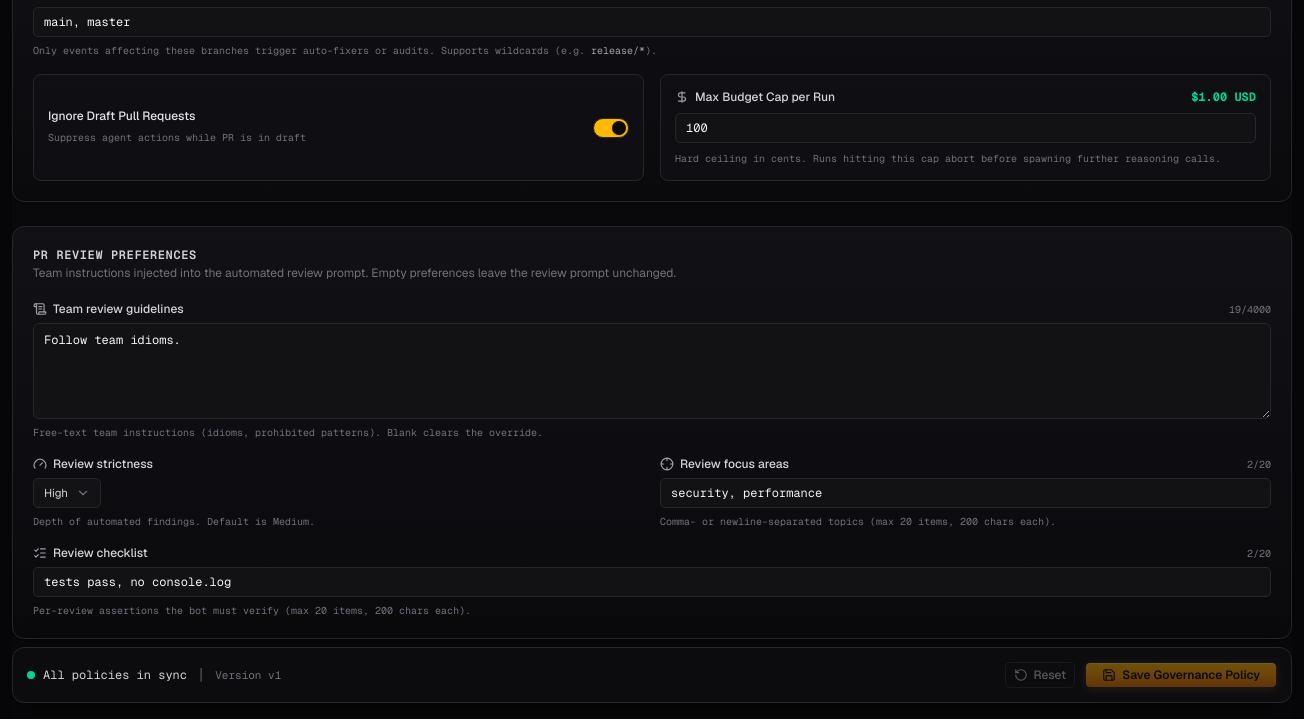
Test case: RepoSettingsCard (components/settings/RepoSettingsCard.tsx) › submits review prefs in the save payload
(page scrolled)
Replace the text in the text box labelled "Team review guidelines" with "  Ship small diffs.  " at {"x": 652, "y": 371}, box [33, 323, 1271, 419]
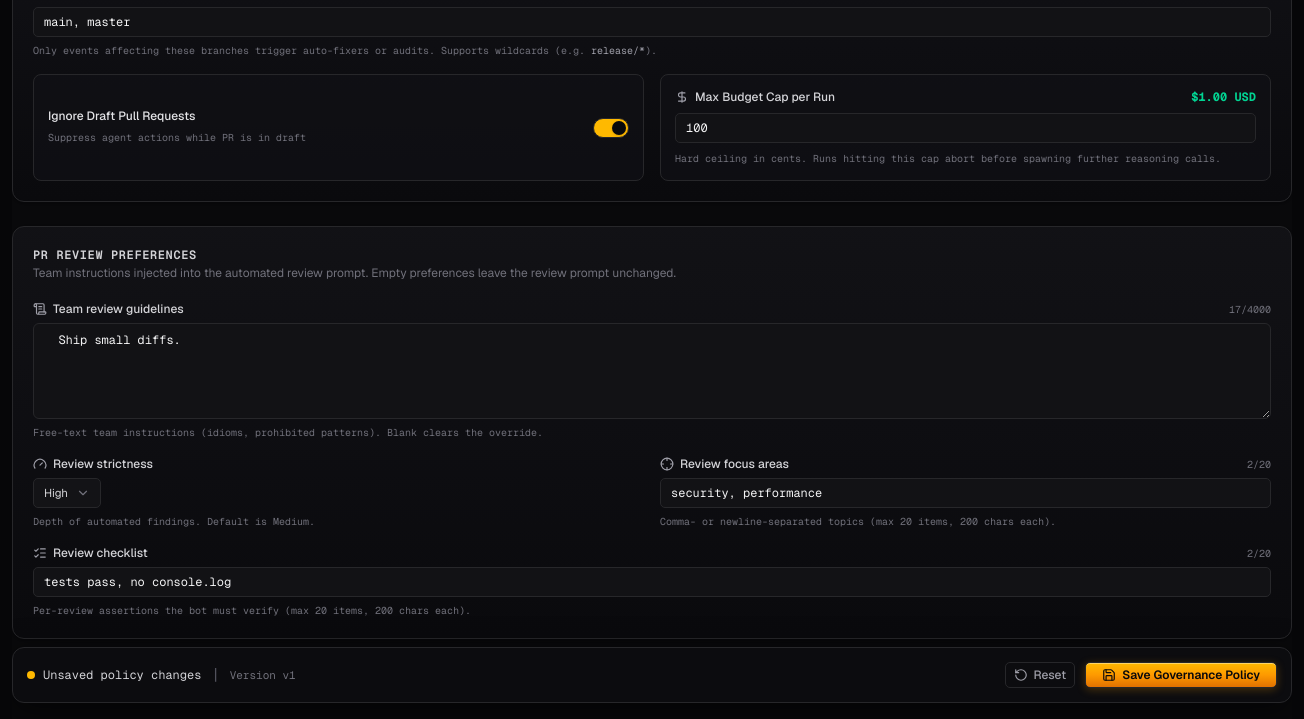
Replace the text in the field labelled "Review focus areas" with "security, reliability" at {"x": 966, "y": 493}, box [660, 478, 1271, 508]
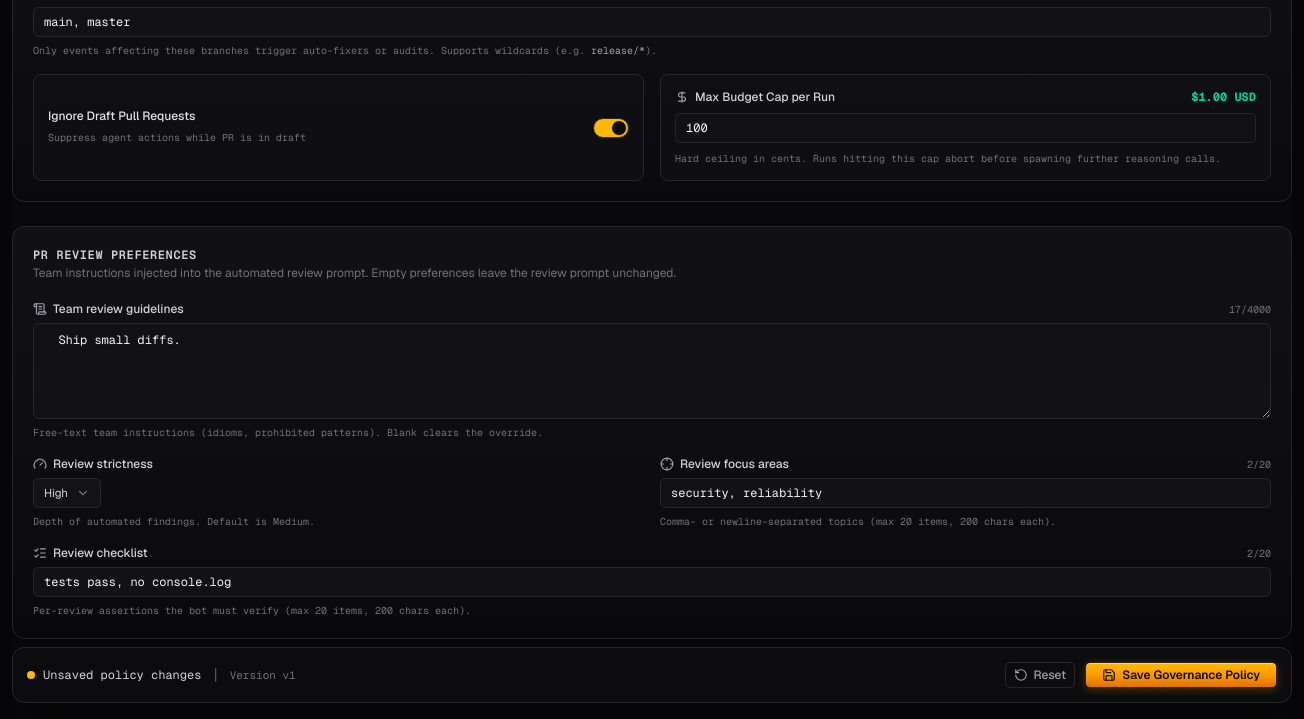
Replace the text in the field labelled "Review checklist" with "tests pass" at {"x": 652, "y": 582}, box [33, 567, 1271, 597]
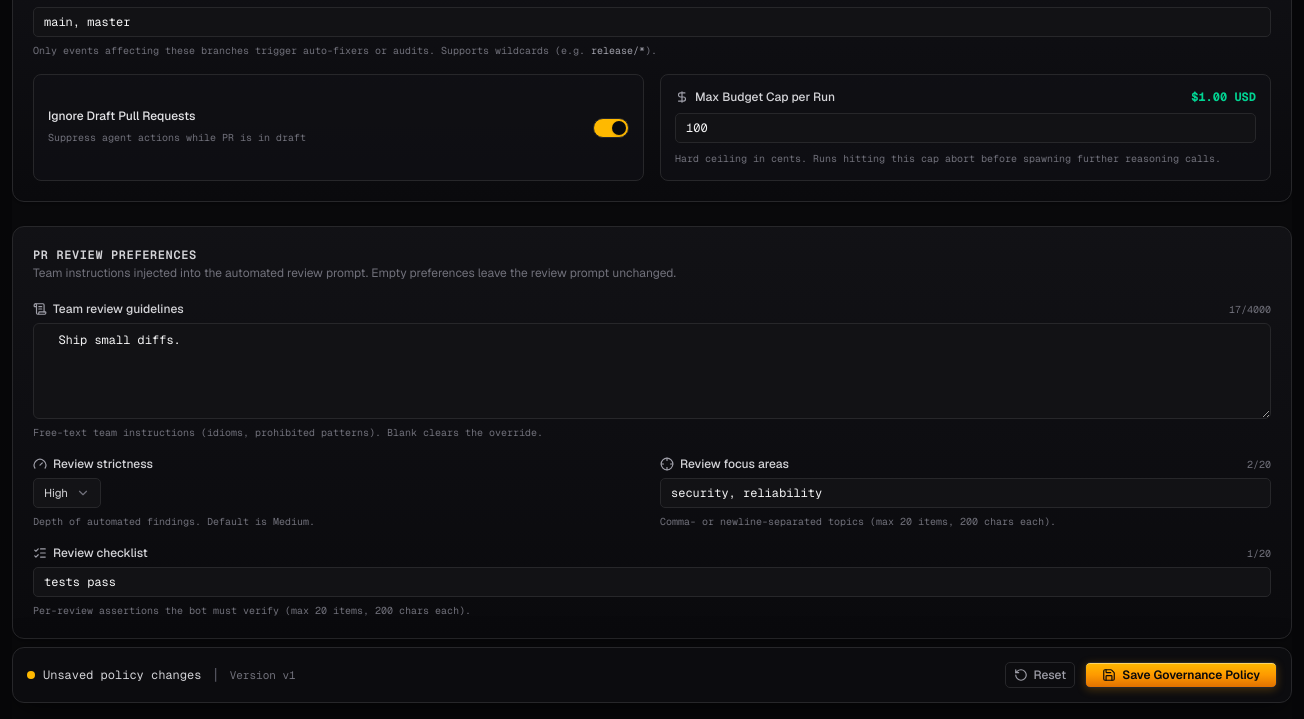
Click the button with aria-label "Review strictness" at {"x": 67, "y": 493}, box [33, 478, 101, 508]
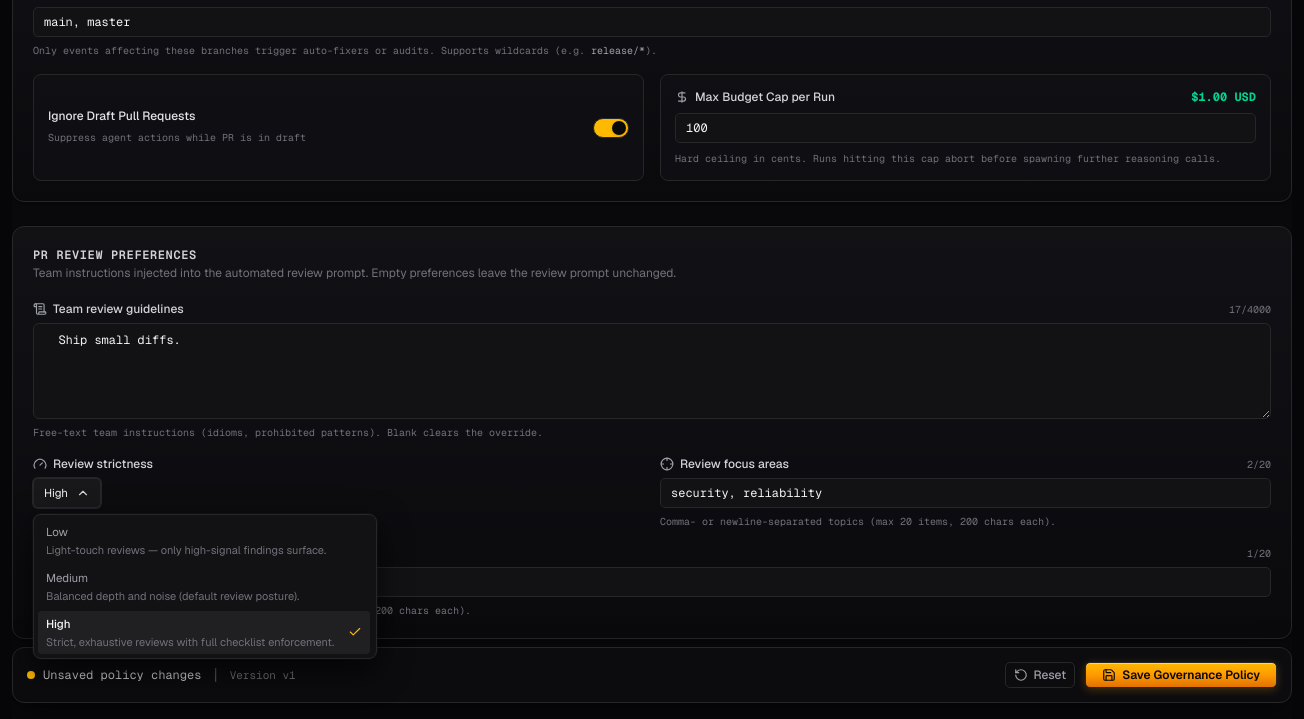
Click the option "Medium Balanced depth and noise (default review posture)." at {"x": 204, "y": 587}, box [38, 565, 370, 609]
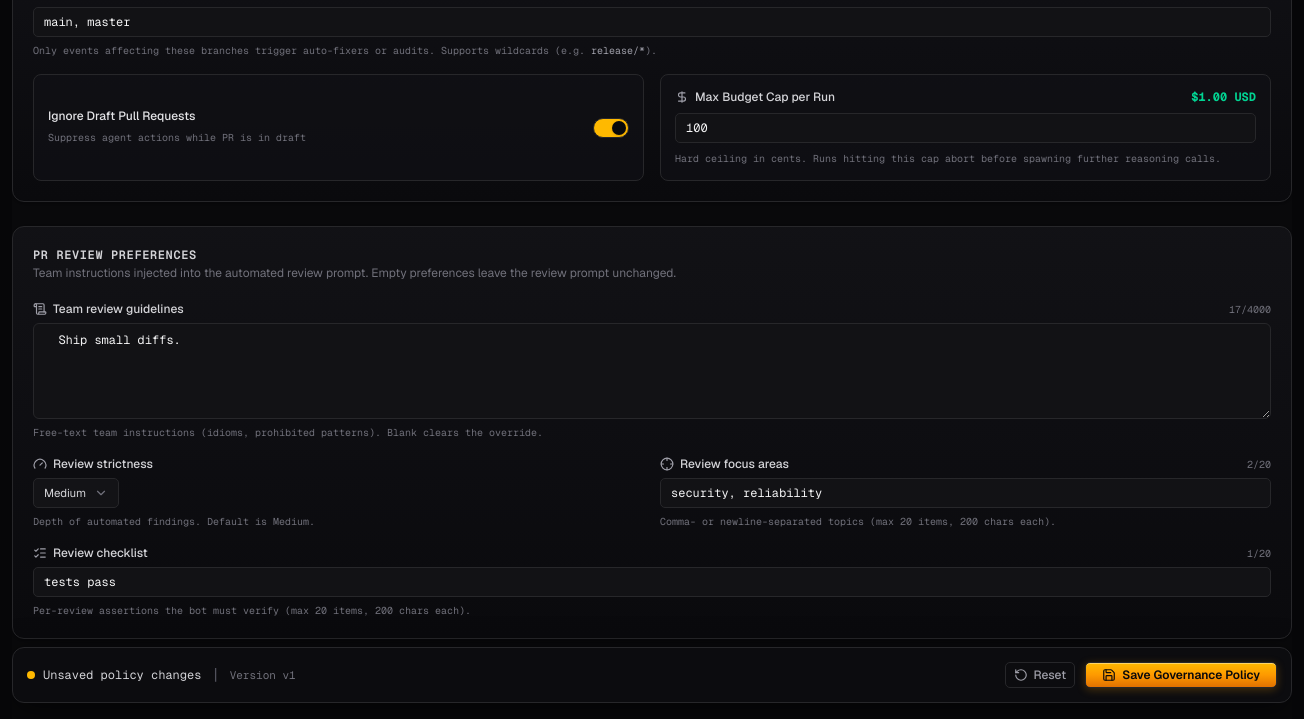
Click the button "Save Governance Policy" at {"x": 1181, "y": 675}, box [1085, 662, 1277, 688]
(page scrolled)
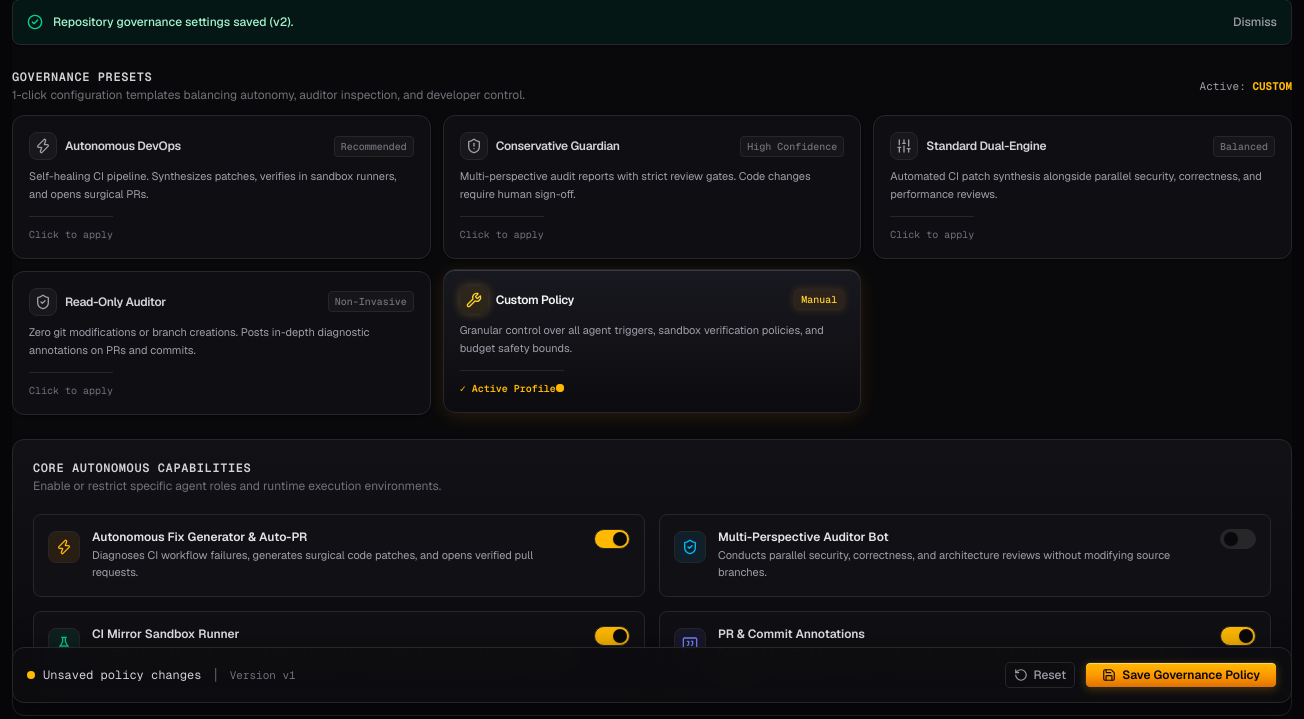
Now the text "Repository governance settings saved (v2)." is shown, box [53, 14, 293, 30]
